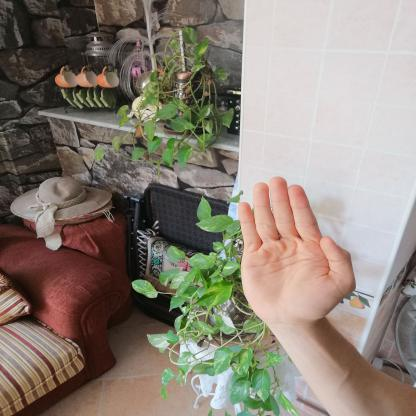SEEN: (224, 166, 366, 338)
